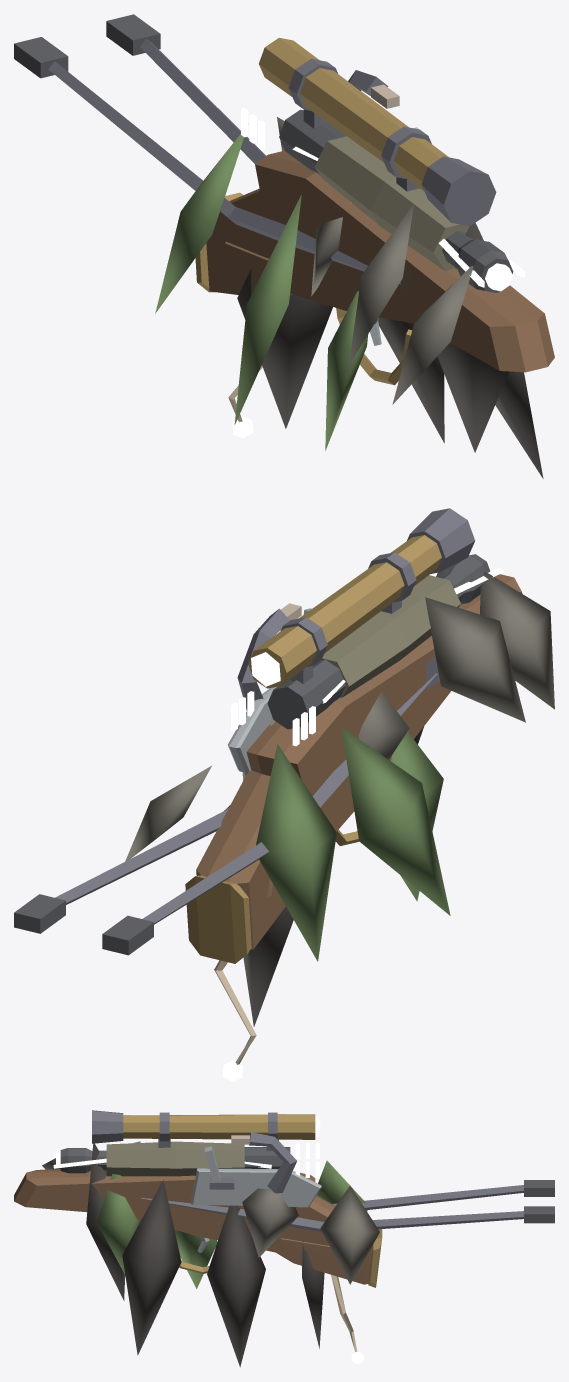
Rendered from gun-hide-gun.glb.
The picture shows the model from 3 angles, top to bottom: view 1: azimuth 30°, elevation 25°; view 2: azimuth 150°, elevation 25°; view 3: azimuth 270°, elevation 25°; orthographic projection. The views are drawn at different scales.
Parts seen in each view (by area): view 1: gun-hide-gun, pulse_vein, pulse_breath; view 2: gun-hide-gun, pulse_breath, sway_sinew; view 3: gun-hide-gun, sway_sinew, pulse_breath, pulse_vein.
Boxes of the visible parts, bbox=[...] form: gun-hide-gun: bbox=[14, 14, 554, 478]; pulse_vein: bbox=[292, 146, 525, 287]; pulse_breath: bbox=[241, 108, 265, 149]; gun-hide-gun: bbox=[14, 508, 554, 1026]; pulse_breath: bbox=[231, 691, 315, 746]; sway_sinew: bbox=[214, 960, 256, 1081]; gun-hide-gun: bbox=[14, 1110, 554, 1367]; sway_sinew: bbox=[331, 1274, 363, 1363]; pulse_breath: bbox=[295, 1143, 319, 1177]; pulse_vein: bbox=[53, 1150, 271, 1168].
Bounding box in the file's own units: 0.258 × 0.4491 × 0.8694.
